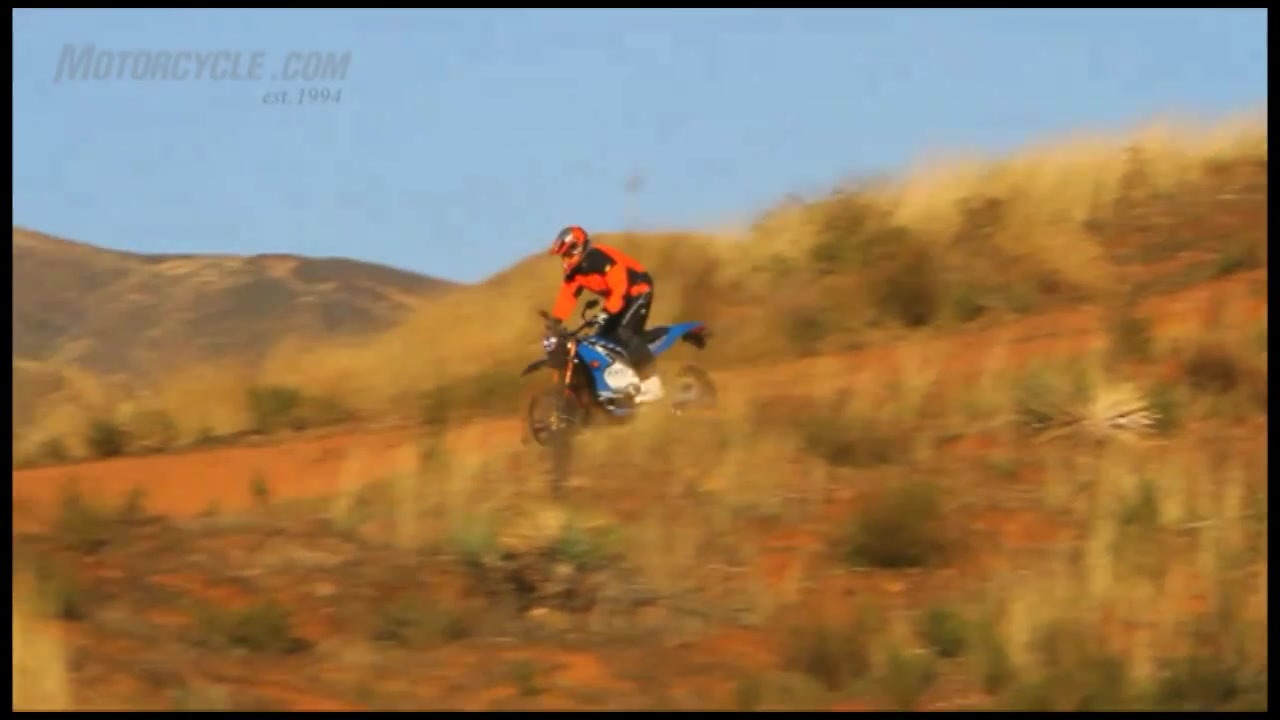motorbike: (524, 308, 723, 455)
